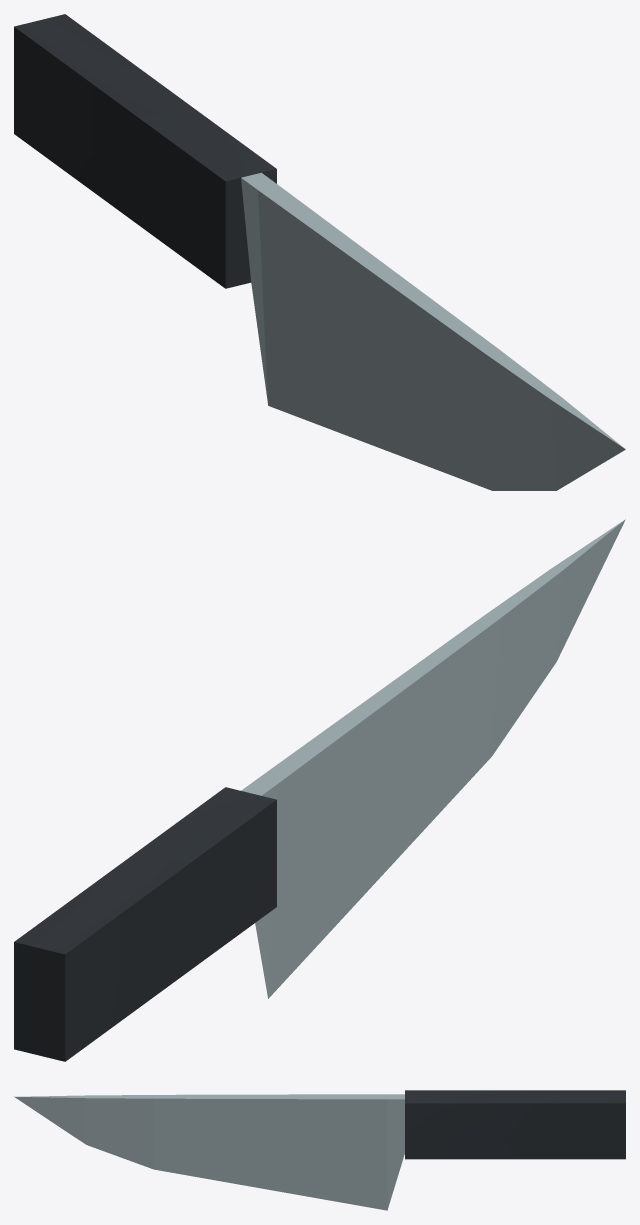
File: Knife.fbx
The picture shows the model from 3 angles, top to bottom: view 1: azimuth 30°, elevation 25°; view 2: azimuth 150°, elevation 25°; view 3: azimuth 270°, elevation 25°; orthographic projection. The views are drawn at different scales.
Visible parts, largest first — view 1: knife; view 2: knife; view 3: knife.
Boxes of the visible parts, left/top/right/bottom form: knife: left=14, top=14, right=625, bottom=490; knife: left=14, top=519, right=625, bottom=1061; knife: left=14, top=1090, right=625, bottom=1210.
Bounding box in the file's own units: 0.0403 × 0.1639 × 0.798.
Materials: 1 (1 with a texture image).
